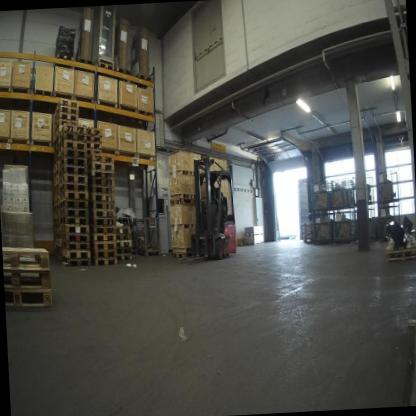forklift: (168, 144, 244, 272)
pallet: (2, 243, 52, 273), (4, 263, 53, 290), (5, 285, 56, 309), (383, 232, 416, 262), (51, 96, 78, 116), (52, 105, 78, 125), (51, 113, 78, 132), (172, 249, 204, 264), (58, 139, 88, 155), (58, 130, 86, 147), (56, 121, 86, 136), (57, 147, 87, 162), (59, 180, 87, 196), (58, 163, 88, 177), (58, 156, 87, 170), (59, 197, 90, 210), (93, 57, 115, 75), (61, 239, 89, 252), (58, 172, 88, 184), (58, 190, 88, 202), (60, 231, 89, 243), (59, 205, 89, 216), (64, 255, 91, 267), (60, 215, 89, 226), (60, 223, 89, 234), (90, 250, 118, 261), (61, 250, 89, 261), (55, 50, 73, 67), (91, 240, 116, 252), (90, 207, 115, 219), (89, 161, 116, 172), (133, 72, 149, 90), (91, 225, 116, 236), (88, 153, 113, 164), (83, 124, 102, 138), (91, 256, 115, 267), (76, 54, 92, 70), (115, 65, 131, 81), (91, 217, 116, 227), (167, 198, 194, 207), (90, 170, 114, 180), (83, 147, 102, 159), (89, 178, 114, 187), (89, 193, 113, 202), (90, 186, 114, 195), (90, 201, 115, 209), (84, 142, 102, 152), (91, 234, 116, 241), (116, 247, 133, 257), (84, 133, 102, 142), (115, 253, 132, 262), (51, 128, 61, 143), (115, 226, 130, 235), (116, 234, 131, 242), (51, 161, 61, 173), (115, 240, 131, 247), (52, 174, 60, 188), (51, 169, 60, 181), (51, 203, 61, 213), (52, 189, 60, 201), (53, 245, 63, 254), (51, 198, 60, 207), (53, 140, 60, 151), (52, 223, 61, 231), (52, 217, 62, 224), (302, 237, 311, 244), (53, 210, 60, 218), (302, 225, 312, 230), (53, 231, 60, 238), (53, 149, 59, 157), (54, 239, 60, 247), (302, 230, 312, 234), (302, 233, 312, 237), (53, 156, 58, 164), (301, 222, 313, 225)
stillage: (135, 210, 163, 257), (377, 203, 404, 243), (373, 165, 400, 205), (352, 205, 377, 242), (329, 175, 354, 211), (332, 208, 358, 242), (310, 209, 333, 246), (351, 174, 377, 206), (309, 180, 331, 213)
